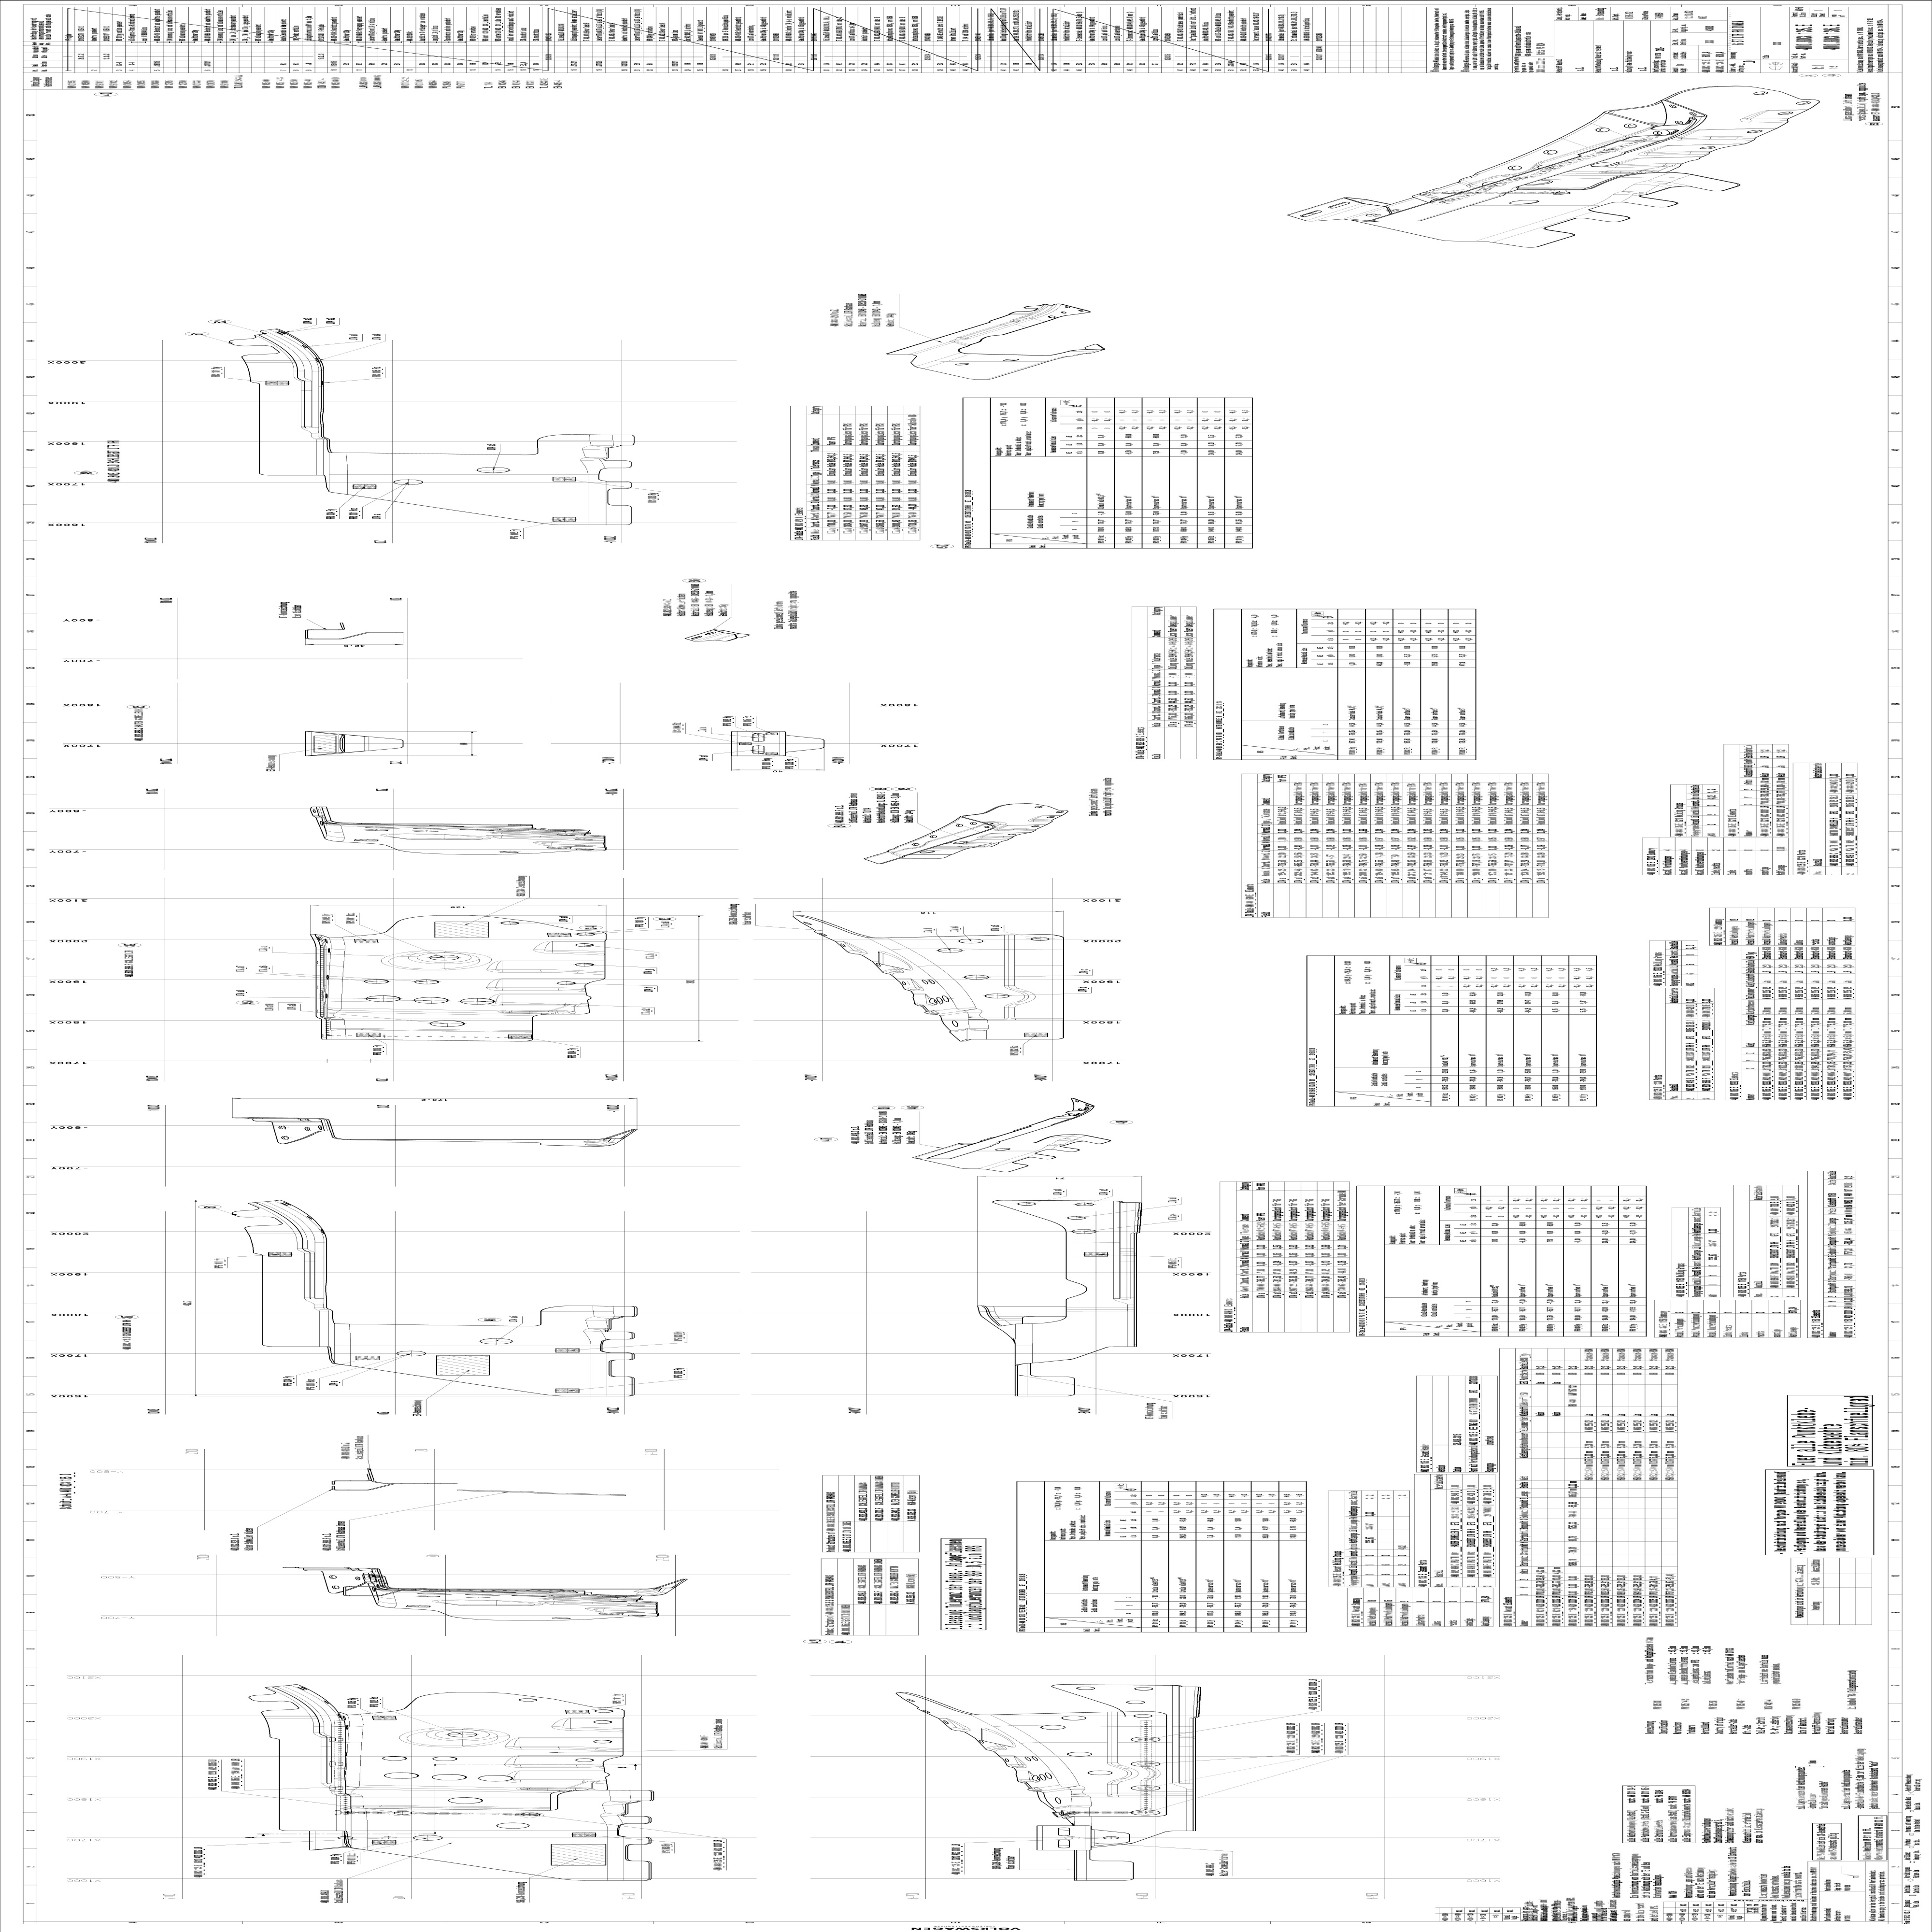Embossment: (1672, 127, 1778, 142), (1638, 143, 1746, 156), (1739, 108, 1810, 124), (994, 823, 1047, 832), (977, 832, 1030, 839), (1028, 814, 1062, 823)
InnerContour: (432, 1771, 467, 1783), (478, 1336, 513, 1346), (478, 465, 511, 476), (446, 1796, 485, 1805), (456, 996, 494, 1005), (412, 996, 449, 1005), (428, 1019, 465, 1028), (382, 1771, 419, 1780), (982, 991, 1010, 1001), (412, 1833, 444, 1842), (476, 1775, 515, 1782), (1509, 198, 1539, 207), (393, 478, 423, 487), (1329, 200, 1350, 212), (364, 994, 402, 1001), (1088, 1767, 1113, 1778), (495, 1822, 533, 1829), (1065, 1750, 1093, 1759), (1039, 1723, 1067, 1732), (962, 973, 989, 982), (1070, 1226, 1097, 1235), (1300, 209, 1322, 219), (395, 1350, 426, 1357), (936, 947, 964, 954), (957, 938, 985, 945), (1060, 1714, 1088, 1721), (382, 1755, 410, 1762), (430, 1755, 458, 1762), (1123, 1698, 1146, 1706), (499, 920, 520, 927), (1065, 1214, 1086, 1221), (1132, 1686, 1154, 1693), (573, 1757, 594, 1764), (575, 961, 594, 968), (393, 1810, 412, 1817), (1753, 88, 1767, 97), (1596, 126, 1610, 134), (1030, 936, 1047, 943), (573, 943, 596, 948), (1796, 99, 1812, 106), (556, 980, 577, 985), (1016, 1201, 1037, 1207), (520, 1812, 541, 1817), (1545, 147, 1557, 156), (1074, 1201, 1093, 1207), (1076, 1686, 1095, 1691), (593, 1720, 612, 1725), (1001, 357, 1019, 363), (1104, 1835, 1122, 1840), (1624, 122, 1637, 129), (954, 361, 970, 366), (575, 932, 596, 936), (1674, 119, 1683, 126), (955, 823, 964, 830), (922, 978, 929, 985), (1033, 805, 1044, 809), (970, 821, 977, 826), (929, 835, 938, 839), (911, 842, 920, 846), (1047, 816, 1056, 819), (1056, 810, 1065, 814), (1047, 315, 1054, 318)
Notch: (1638, 177, 1720, 211), (1545, 211, 1624, 242), (1589, 195, 1668, 225), (1090, 1842, 1136, 1865), (1060, 1136, 1100, 1155), (1012, 1152, 1053, 1171), (232, 343, 281, 357), (249, 1698, 299, 1713), (621, 1798, 653, 1819), (603, 1315, 637, 1334), (1033, 1145, 1074, 1161), (598, 467, 633, 485), (617, 1821, 649, 1840), (600, 1338, 633, 1355), (237, 1215, 285, 1228), (605, 487, 632, 508), (603, 444, 633, 462), (609, 1359, 633, 1380), (625, 1844, 651, 1863), (1679, 184, 1681, 184)
